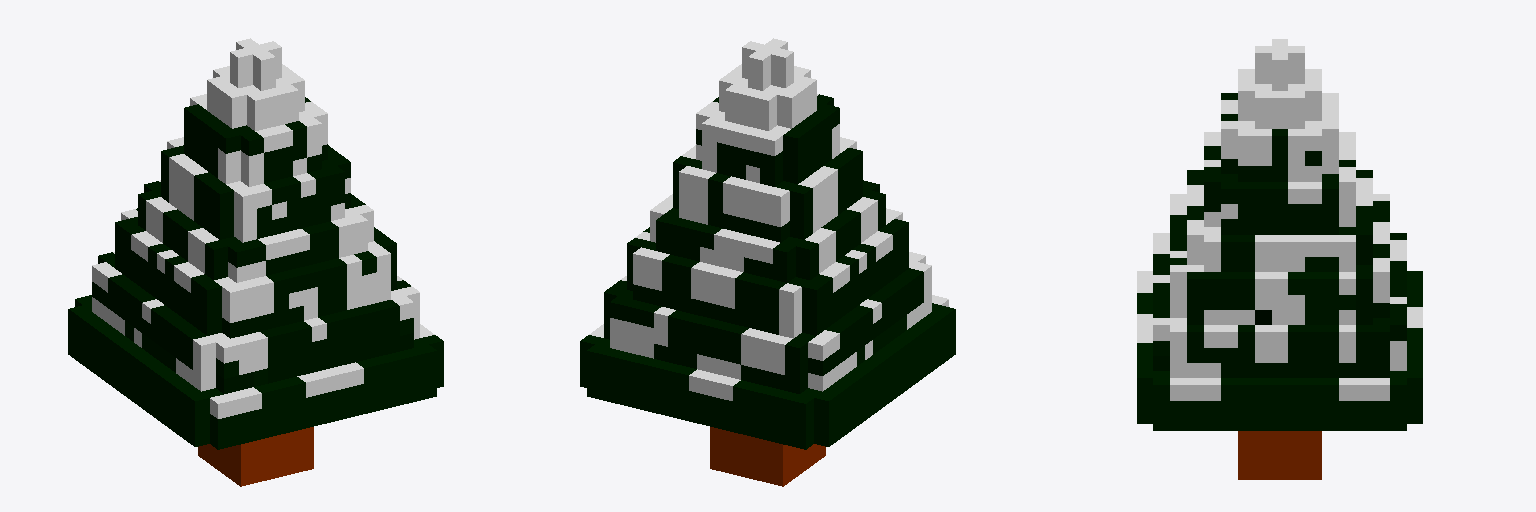
The picture shows the model from 3 angles: view 1: azimuth 30°, elevation 25°; view 2: azimuth 150°, elevation 25°; view 3: azimuth 270°, elevation 25°; orthographic projection.
Bounding box in the file's own units: 17 × 27 × 17.
1 materials, 1 textured.